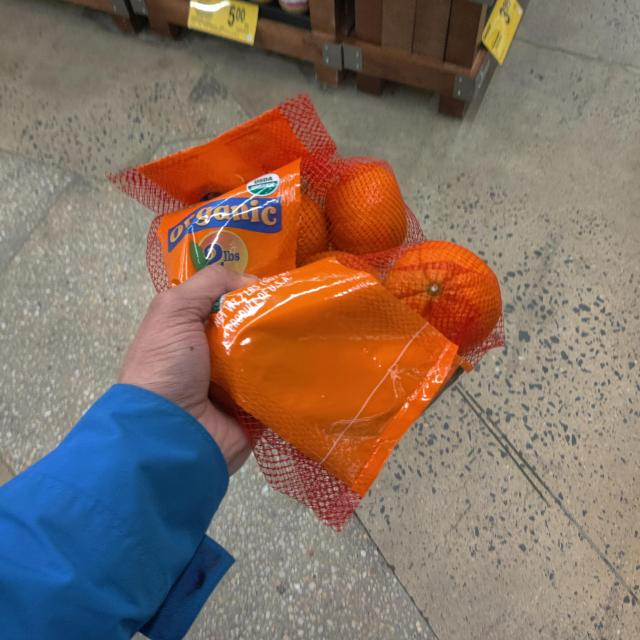Clementine: (108, 92, 502, 469)
